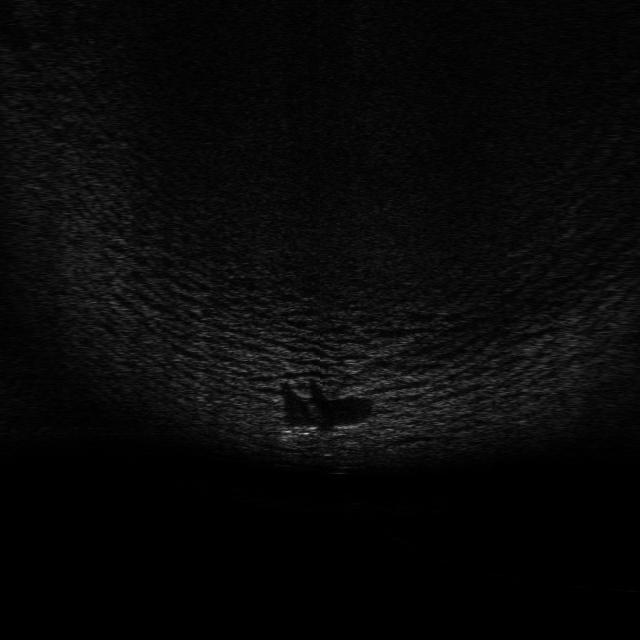plane: (278, 416, 366, 447)
